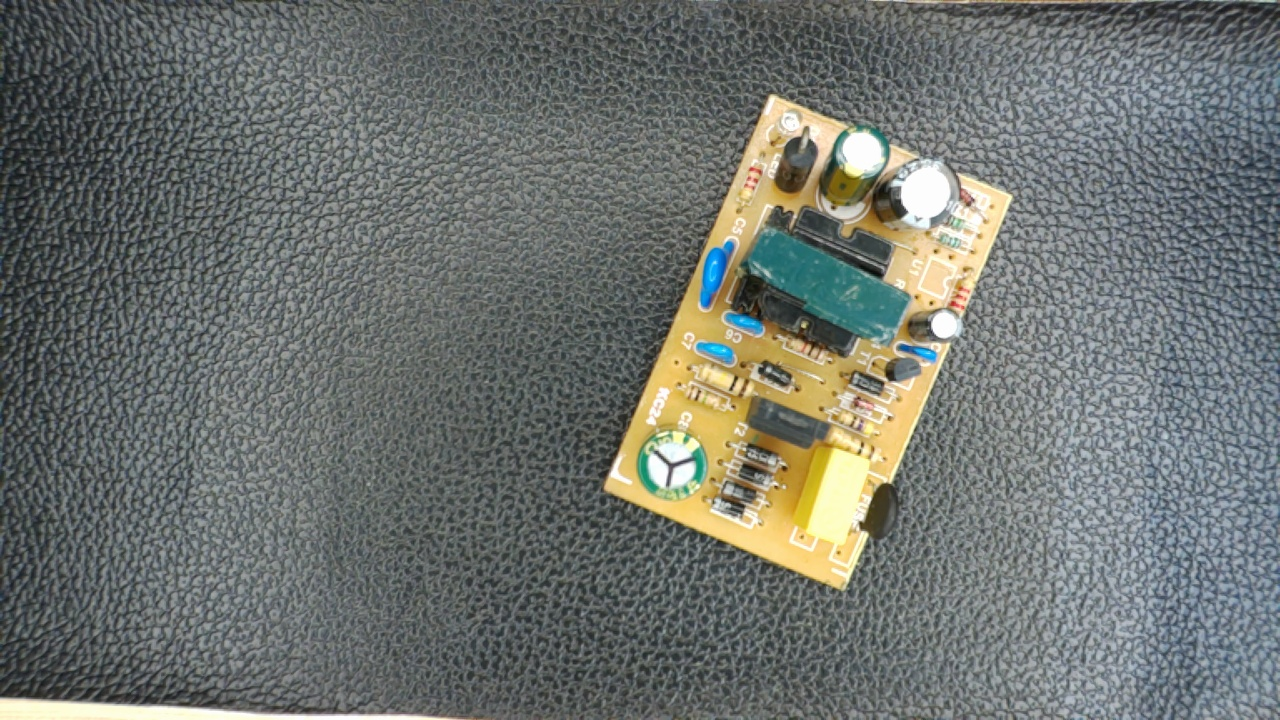fuse: (852, 467, 903, 551)
hv_capacitor: (633, 420, 708, 503)
mov: (692, 236, 740, 314)
